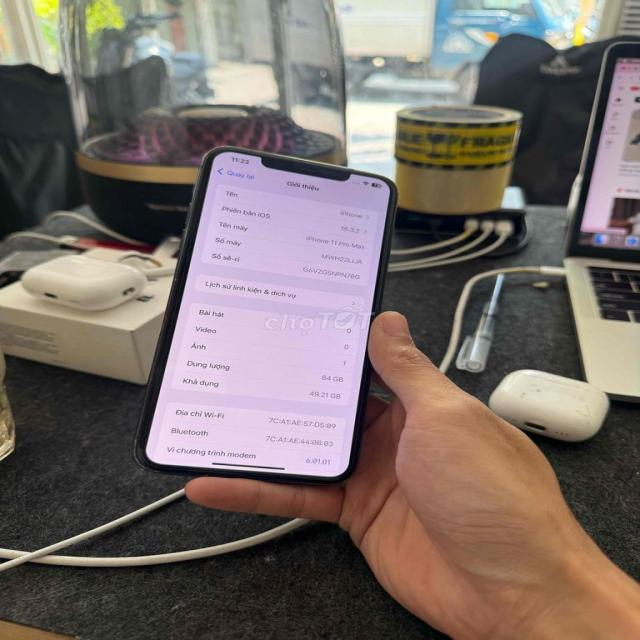gen_11: (138, 148, 396, 483), (262, 154, 347, 181)
